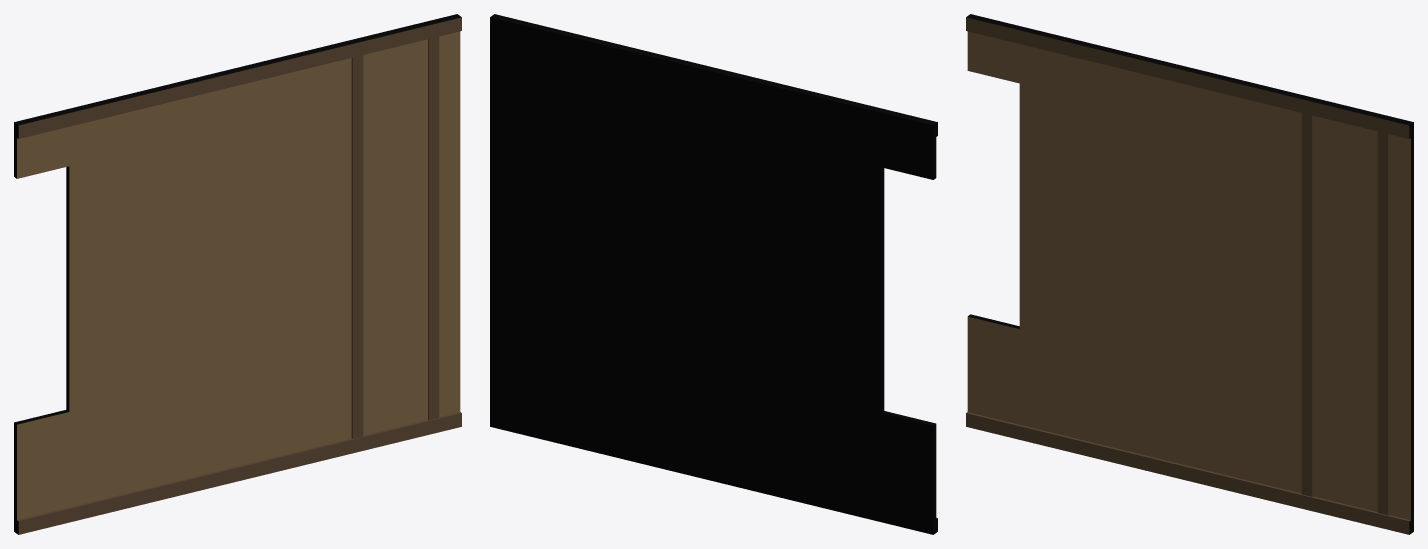
The picture shows the model from 3 angles, left to right: view 1: azimuth 30°, elevation 25°; view 2: azimuth 150°, elevation 25°; view 3: azimuth 330°, elevation 25°; orthographic projection.
Parts seen in each view (by area): view 1: M_Wall_Big_BorderTop, M_Wall_Big.001, M_Wall_Big_BorderReliefTop.001, M_Wall_Big_BorderTop.001, M_Wall_Big_BorderDown, M_Wall_Big_BorderDown.001, M_Wall_Big_BorderReliefDown, M_Wall_Big_Relief, M_Wall_Big, M_Wall_Medium_BorderTop, M_Wall_Medium, M_Wall_Medium_BorderDown; view 2: M_Wall_Big_BorderTop, M_Wall_Big_BorderReliefTop.001, M_Wall_Big_BorderTop.001, M_Wall_Big.001, M_Wall_Big_BorderDown, M_Wall_Big_BorderDown.001, M_Wall_Big, M_Wall_Big_BorderReliefDown, M_Wall_Big_Relief, M_Wall_Medium_BorderTop, M_Wall_Medium, M_Wall_Medium_BorderDown; view 3: M_Wall_Big_BorderReliefTop.001, M_Wall_Big_BorderReliefDown, M_Wall_Big_Relief, M_Wall_Big_BorderTop, M_Wall_Big_BorderTop.001, M_Wall_Big_BorderDown, M_Wall_Big_BorderDown.001, M_Wall_Big, M_Wall_Big.001, M_Wall_Medium_BorderTop, M_Wall_Medium, M_Wall_Medium_BorderDown.
Boxes of the visible parts, bbox=[...] form: M_Wall_Big_BorderTop: bbox=[66, 77, 200, 247]; M_Wall_Big.001: bbox=[66, 216, 199, 384]; M_Wall_Big_BorderReliefTop.001: bbox=[327, 14, 461, 184]; M_Wall_Big_BorderTop.001: bbox=[197, 46, 331, 215]; M_Wall_Big_BorderDown: bbox=[66, 353, 200, 521]; M_Wall_Big_BorderDown.001: bbox=[199, 321, 331, 490]; M_Wall_Big_BorderReliefDown: bbox=[330, 289, 461, 458]; M_Wall_Big_Relief: bbox=[330, 153, 460, 320]; M_Wall_Big: bbox=[199, 184, 329, 352]; M_Wall_Medium_BorderTop: bbox=[14, 109, 70, 178]; M_Wall_Medium: bbox=[14, 410, 69, 479]; M_Wall_Medium_BorderDown: bbox=[14, 466, 70, 534]; M_Wall_Big_BorderTop: bbox=[751, 77, 885, 248]; M_Wall_Big_BorderReliefTop.001: bbox=[490, 14, 624, 185]; M_Wall_Big_BorderTop.001: bbox=[620, 46, 754, 217]; M_Wall_Big.001: bbox=[751, 217, 884, 385]; M_Wall_Big_BorderDown: bbox=[751, 354, 884, 521]; M_Wall_Big_BorderDown.001: bbox=[620, 322, 750, 490]; M_Wall_Big: bbox=[620, 185, 750, 353]; M_Wall_Big_BorderReliefDown: bbox=[490, 290, 620, 458]; M_Wall_Big_Relief: bbox=[490, 154, 620, 321]; M_Wall_Medium_BorderTop: bbox=[881, 109, 937, 179]; M_Wall_Medium: bbox=[881, 411, 936, 480]; M_Wall_Medium_BorderDown: bbox=[881, 467, 937, 534]; M_Wall_Big_BorderReliefTop.001: bbox=[1279, 90, 1413, 260]; M_Wall_Big_BorderReliefDown: bbox=[1279, 365, 1413, 534]; M_Wall_Big_Relief: bbox=[1280, 229, 1413, 397]; M_Wall_Big_BorderTop: bbox=[1018, 27, 1152, 196]; M_Wall_Big_BorderTop.001: bbox=[1148, 58, 1282, 228]; M_Wall_Big_BorderDown: bbox=[1018, 302, 1149, 471]; M_Wall_Big_BorderDown.001: bbox=[1148, 334, 1280, 502]; M_Wall_Big: bbox=[1150, 197, 1280, 365]; M_Wall_Big.001: bbox=[1019, 165, 1149, 333]; M_Wall_Medium_BorderTop: bbox=[966, 14, 1022, 83]; M_Wall_Medium: bbox=[967, 314, 1019, 383]; M_Wall_Medium_BorderDown: bbox=[966, 371, 1019, 439].
Size of the model in its own units: 1700 by 1500 by 30.
